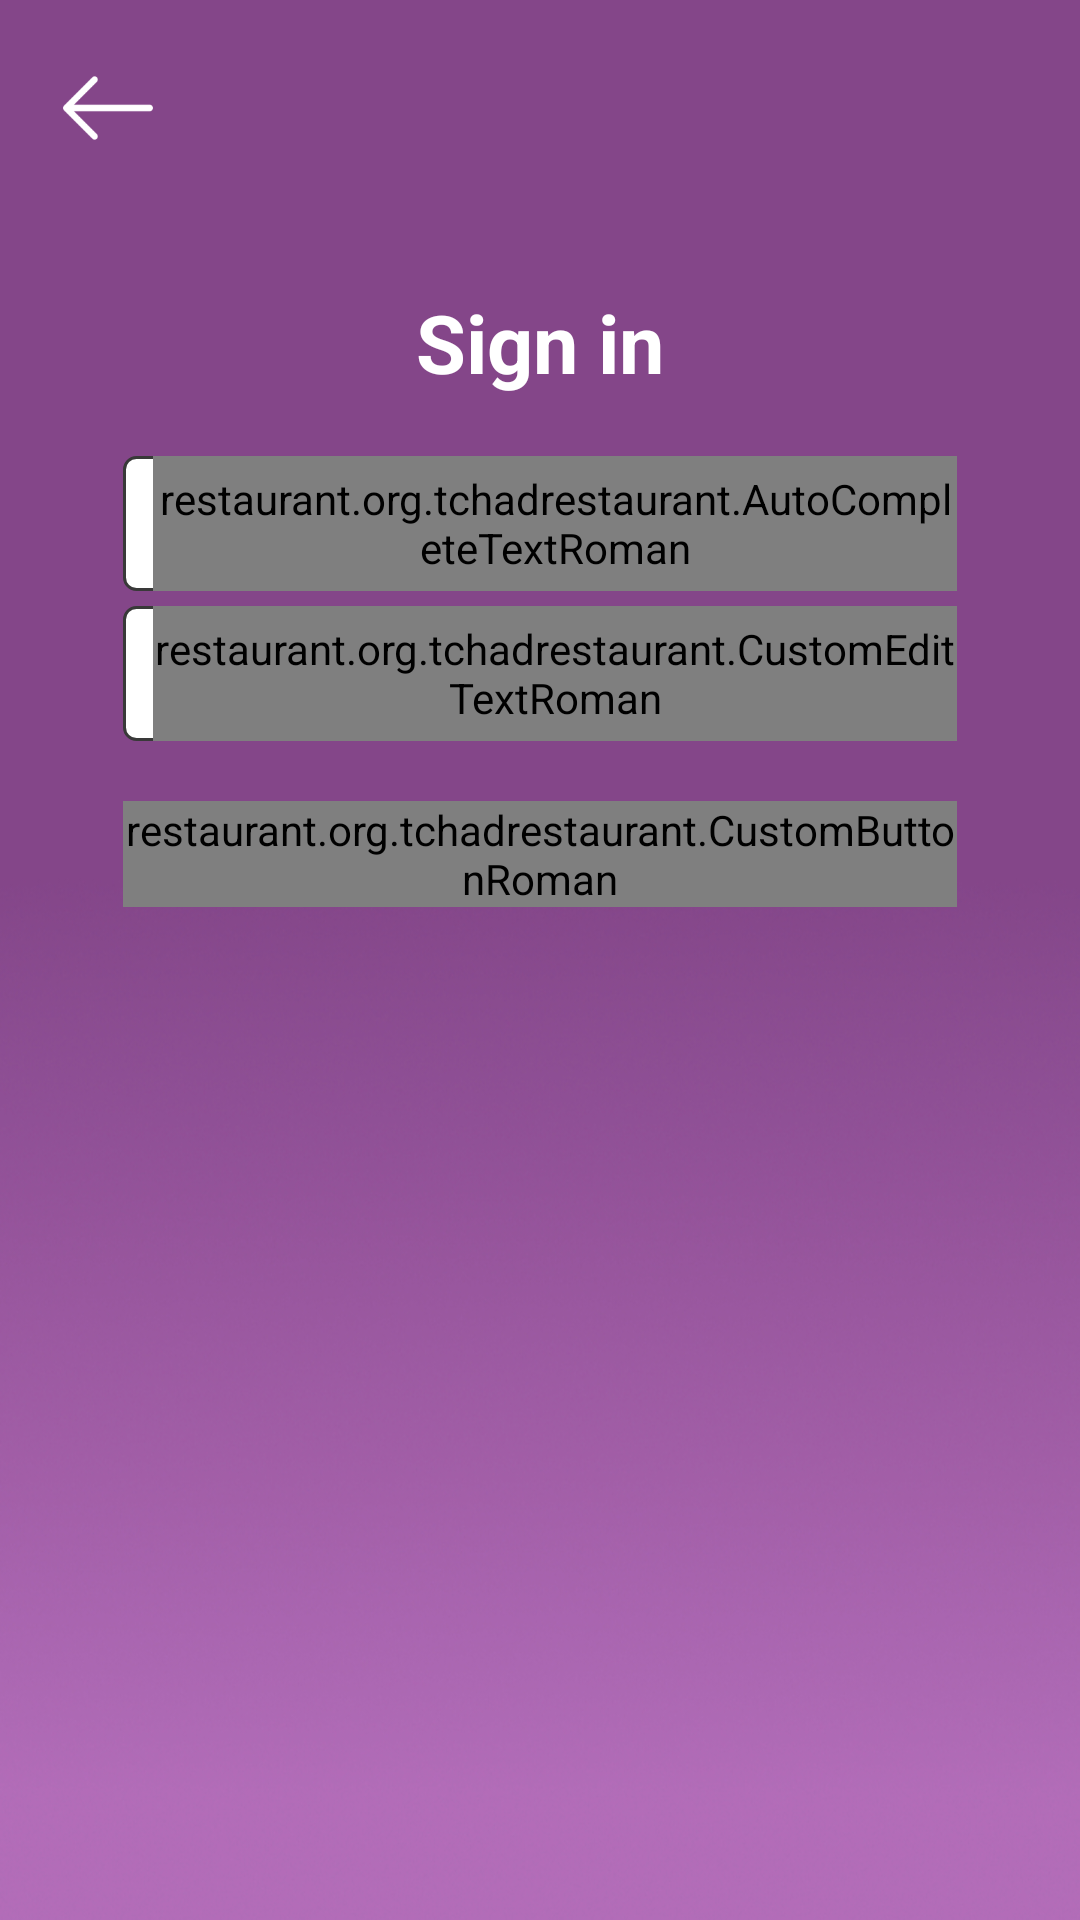

Icon click points for this 1080px x 1920px phone screenshot, format (x,y):
left arrow: (108,108)
